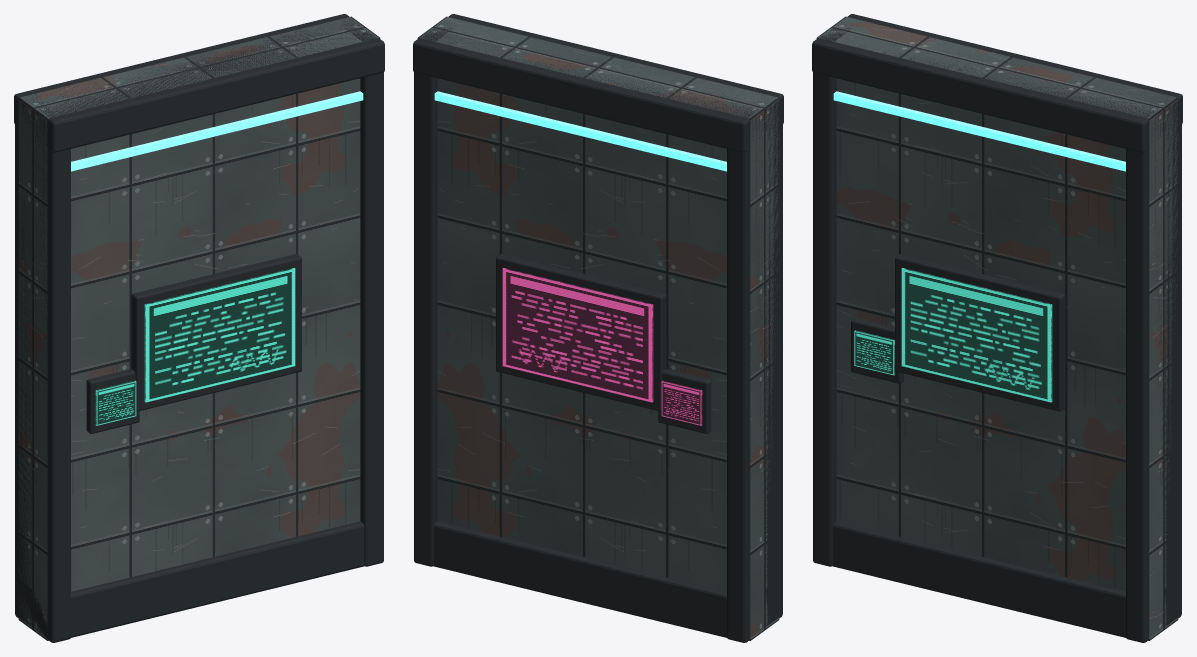
The model's file is wall_screens.glb.
The picture shows the model from 3 angles, left to right: view 1: azimuth 30°, elevation 25°; view 2: azimuth 150°, elevation 25°; view 3: azimuth 330°, elevation 25°; orthographic projection.
Visible parts, largest first — view 1: wall_screens; view 2: wall_screens; view 3: wall_screens.
Part boxes in pixels (x1,y1,x2,y2): wall_screens: (14,14,384,642); wall_screens: (413,14,783,642); wall_screens: (812,14,1182,642).
Bounding box in the file's own units: 2 × 3 × 0.44.
Materials: 5 (3 with a texture image).
